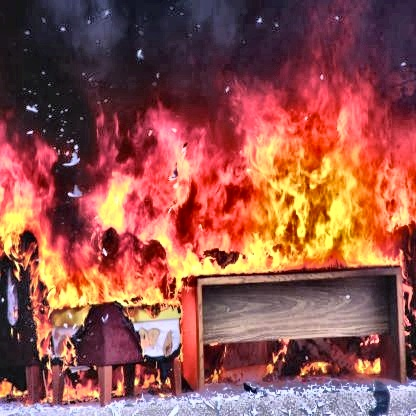fire: (2, 114, 416, 334)
